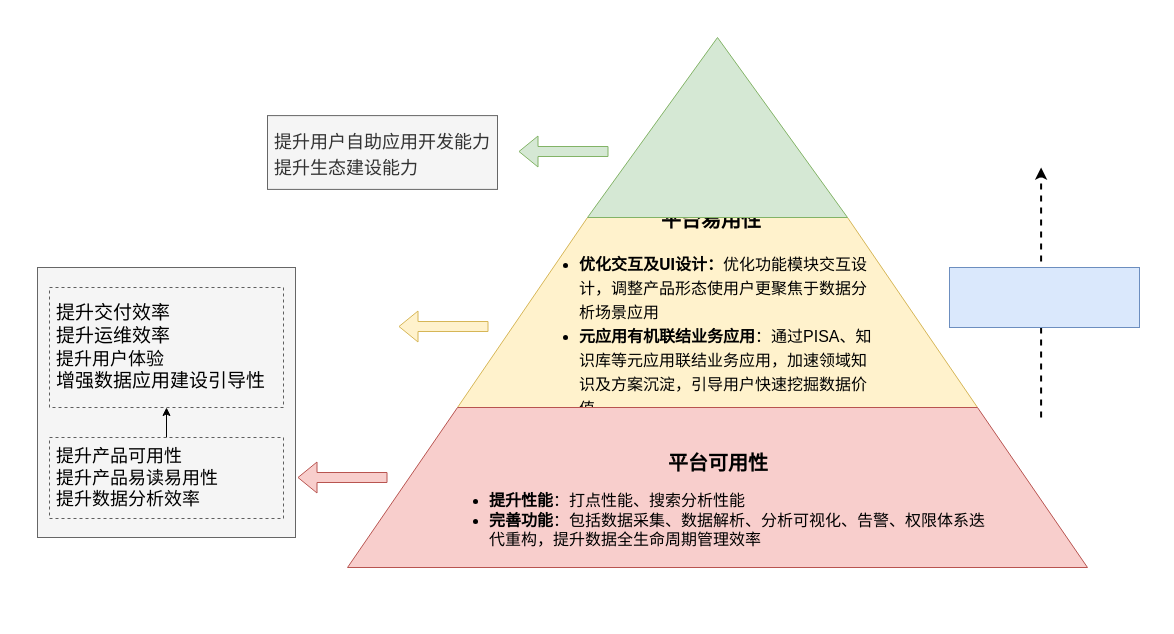
The diagram is 1174 pixels wide and 634 high, and some of its shapes have lost their labels. The shapes that lost their labels are listed below. From the top down, each one's box as (x1, y1, x2, y2) in pixels, then its label:
(586, 36, 848, 218): 平台开放性 插件化 低代码开发能力
(948, 266, 1140, 328): 智能化贯穿产品演进
